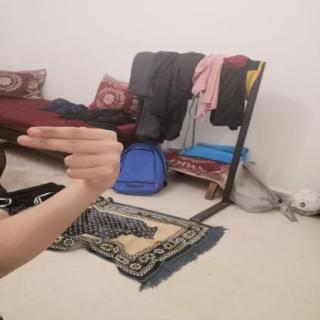AYN: (10, 119, 129, 196)
